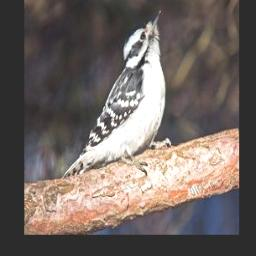Woodpecker: (63, 6, 175, 178)
